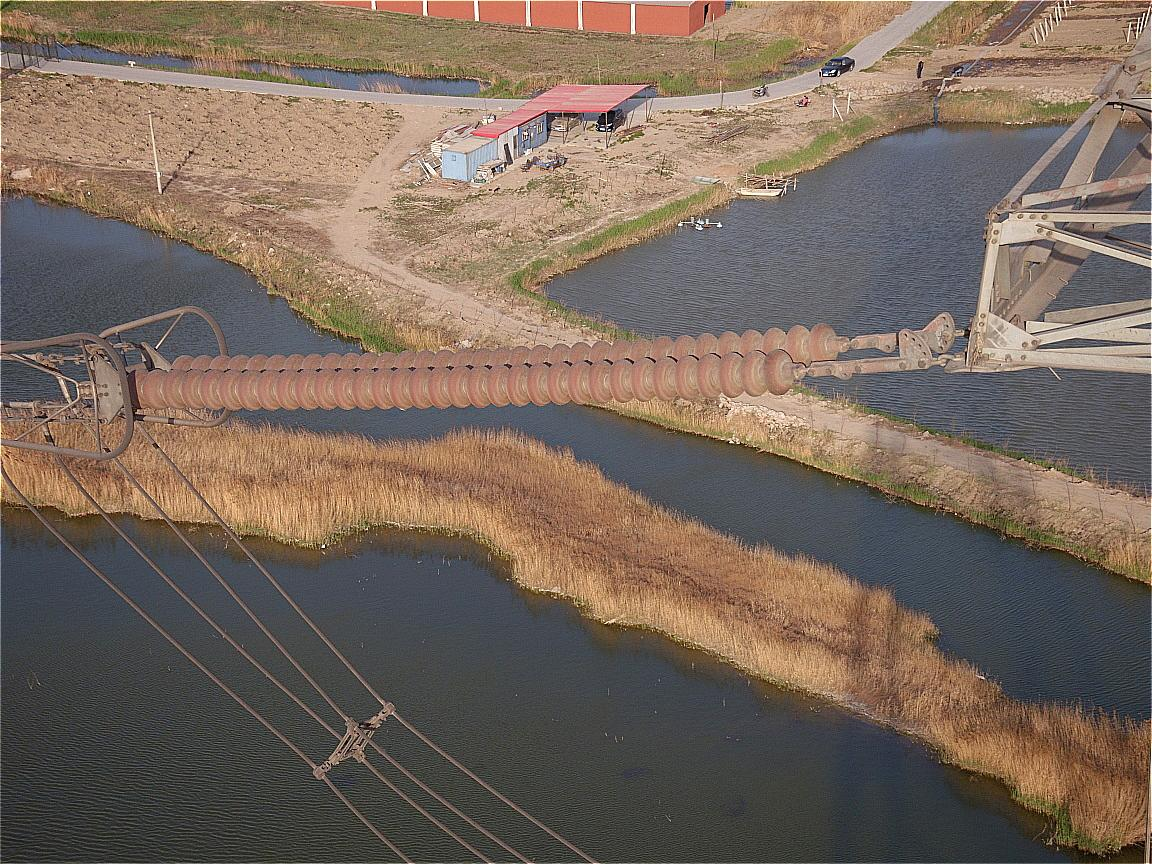insultor1: (126, 321, 837, 410)
